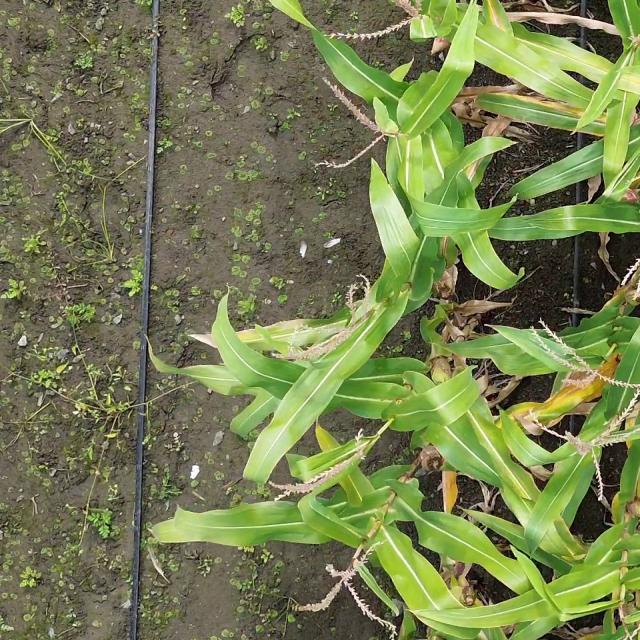northern-leaf-blight: (489, 353, 610, 445), (482, 60, 612, 143), (172, 312, 326, 364)
